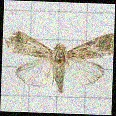Spodoptera litura: (3, 31, 114, 94)
